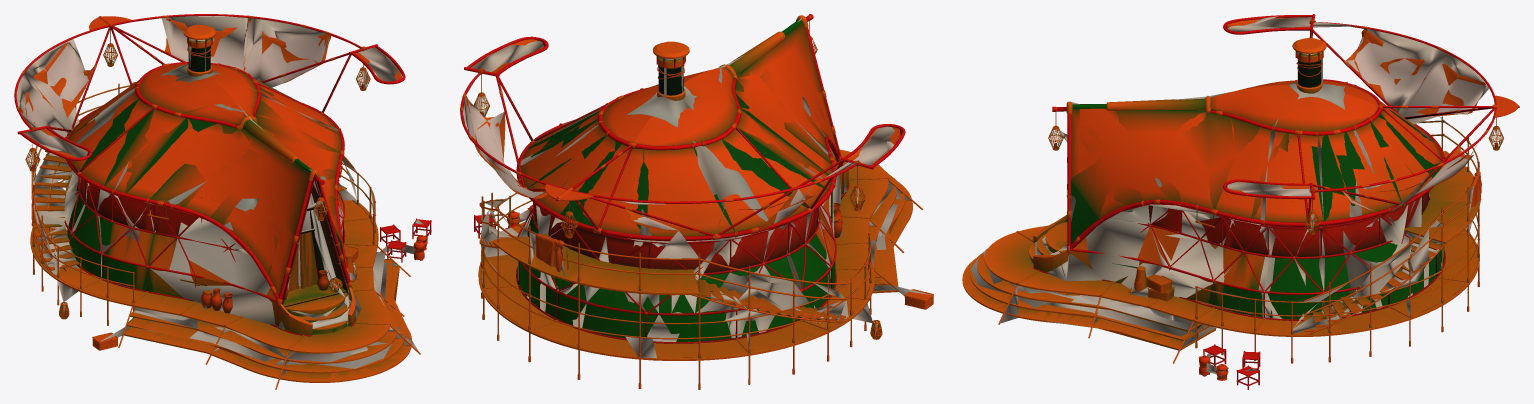
The model's file is KB3D_GAE_BldgSM_H.glb.
3 views of the same model, side by side, from view 1: azimuth 30°, elevation 25°; view 2: azimuth 150°, elevation 25°; view 3: azimuth 270°, elevation 25° (orthographic). The views are drawn at different scales.
Visible parts, largest first — view 1: L0, L1, L2; view 2: L0, L1, L2; view 3: L0, L1, L2.
Boxes of the visible parts, box(x1,y1,x2,y2) form: L0: box(14, 14, 431, 389); L1: box(15, 14, 427, 389); L2: box(16, 16, 423, 375); L0: box(460, 14, 933, 389); L1: box(462, 14, 933, 368); L2: box(463, 18, 931, 358); L0: box(962, 14, 1519, 389); L1: box(966, 15, 1517, 378); L2: box(970, 16, 1518, 376).
Bounding box in the file's own units: 15.22 × 8.95 × 18.37.
